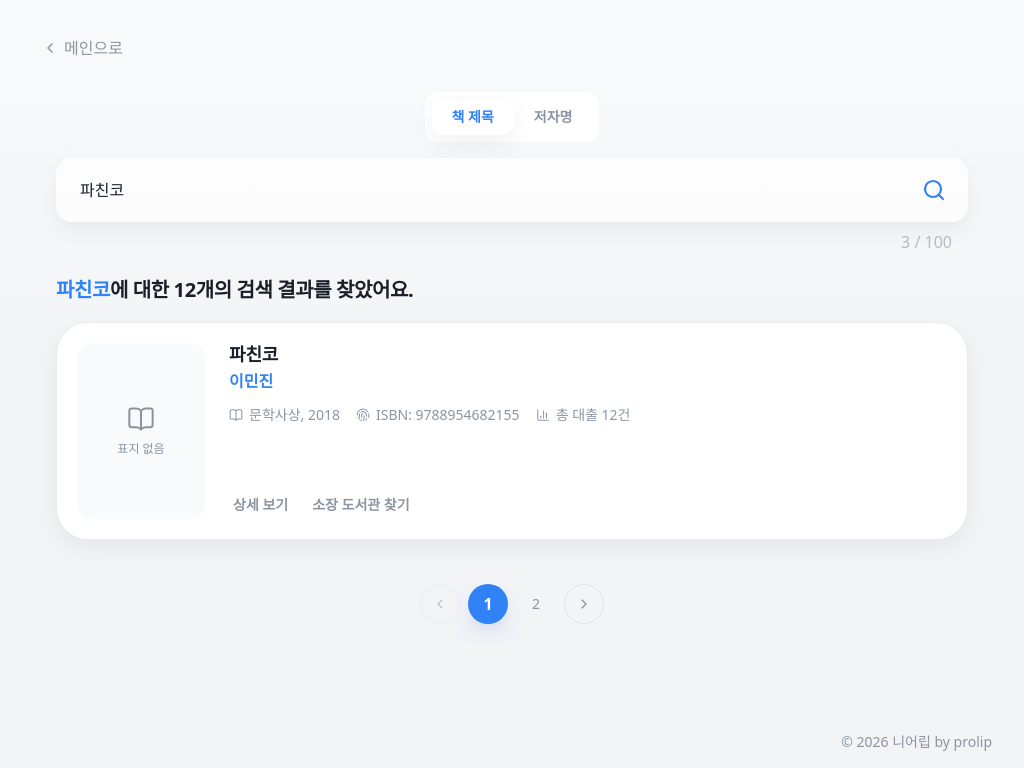
Scenario: app router integration › 상세 정보를 찾지 못하면 빈 상태 안내를 본다
What coordinates should you click on to do the following:
click the button "상세 보기"
I would click on:
 (261, 505)
Its box is [229,491,292,519].
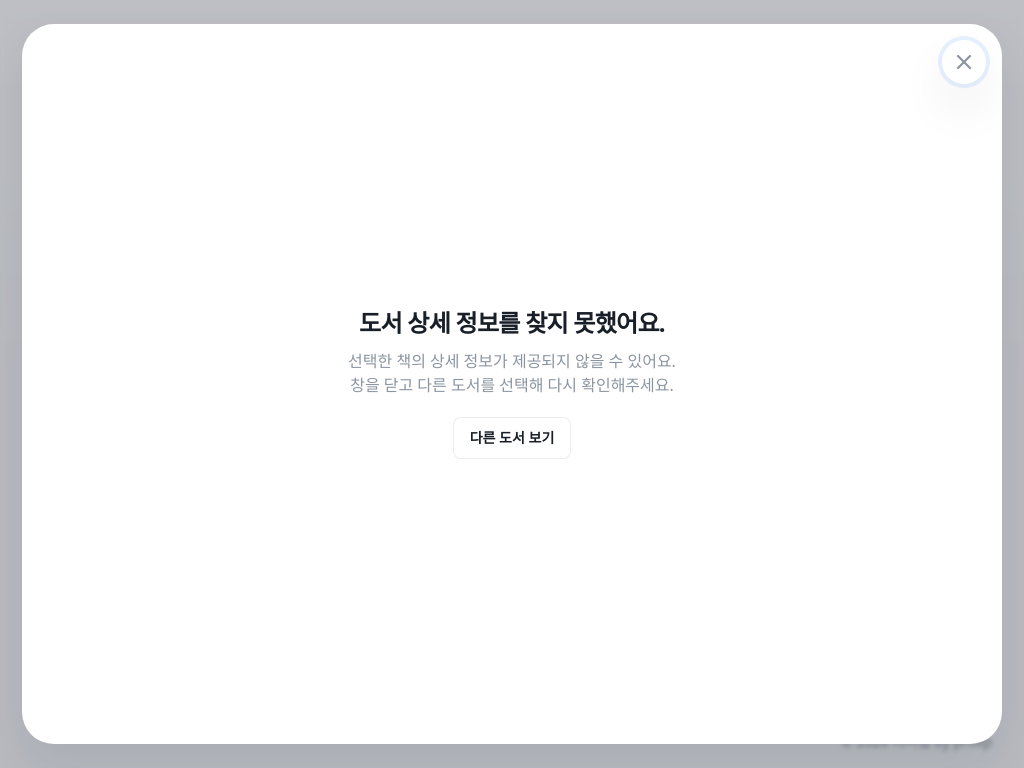
Result: the heading "도서 상세 정보를 찾지 못했어요." is shown at [359,309,665,337]
Result: the text "선택한 책의 상세 정보가 제공되지 않을 수 있어요." is shown at [348,349,676,373]
Result: the button "다른 도서 보기" is shown at [453,417,571,459]
